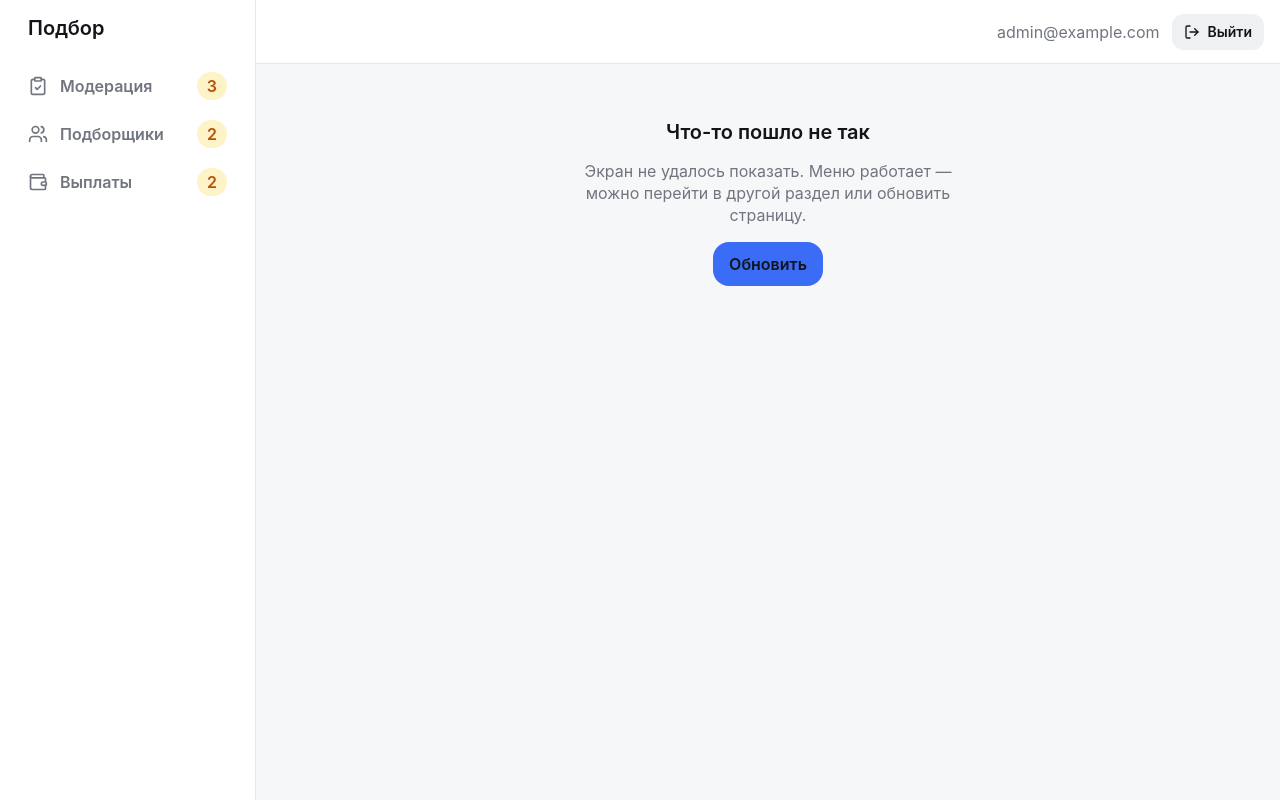
Scenario: исключение в экране › переход в другой раздел из сломанного экрана работает без перезагрузки
The width and height of the screenshot is (1280, 800).
Check: the heading "Что-то пошло не так" is shown, box [666, 120, 870, 144]
Click the link "Подборщики 2" at x=128, y=134, box [16, 112, 239, 156]
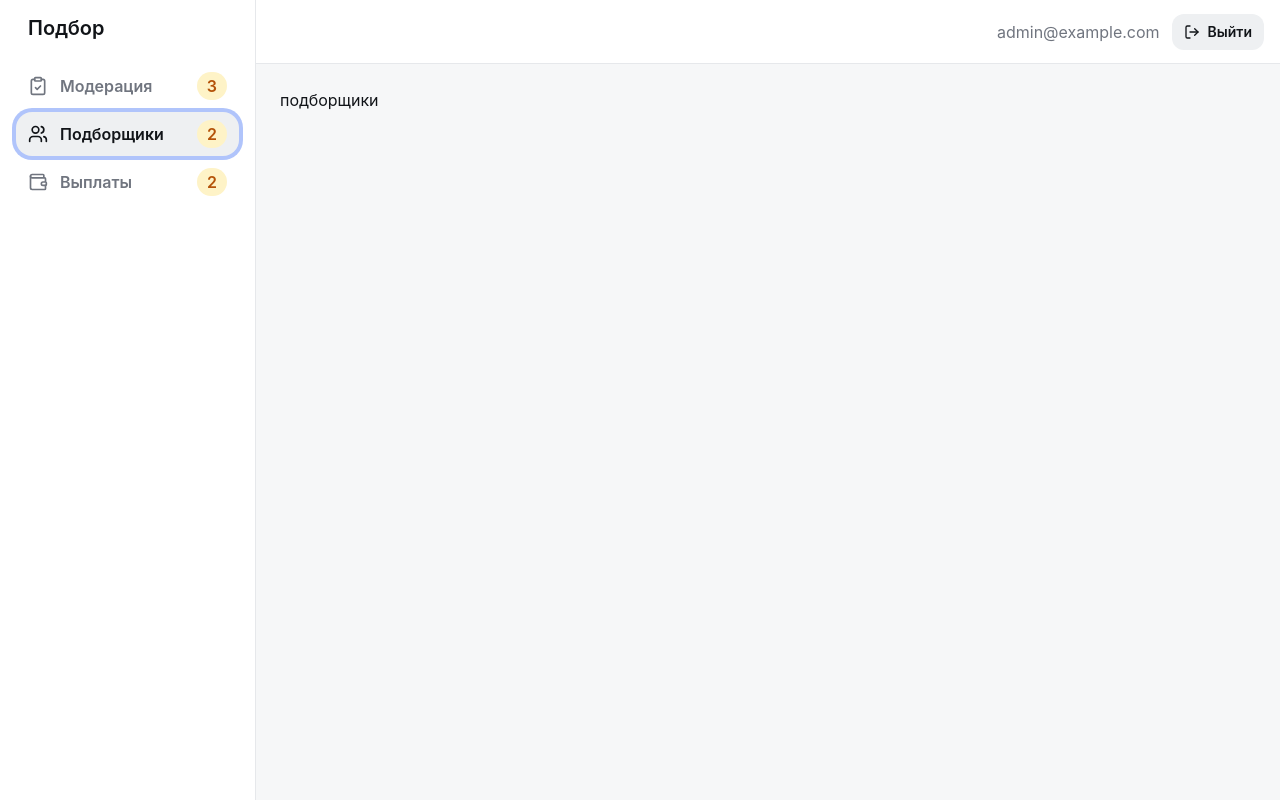
Check: the text "подборщики" is shown, box [280, 90, 378, 110]
Check: the heading "Что-то пошло не так" is gone
